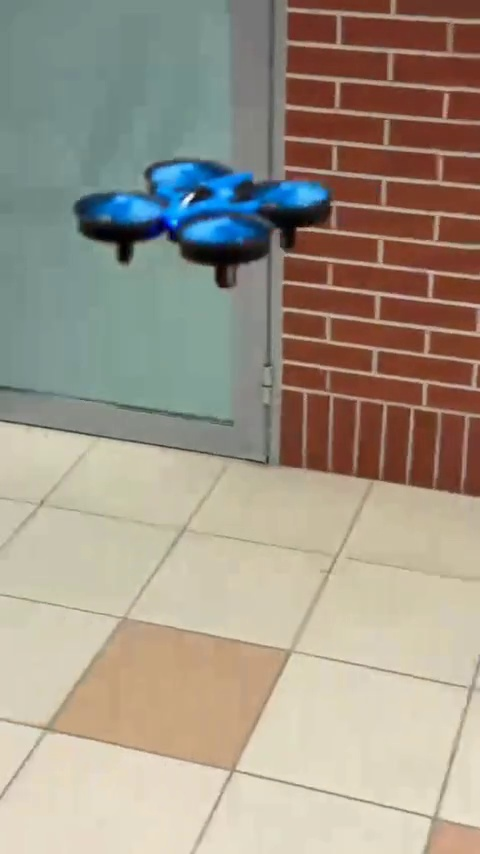drone: (71, 153, 337, 279)
